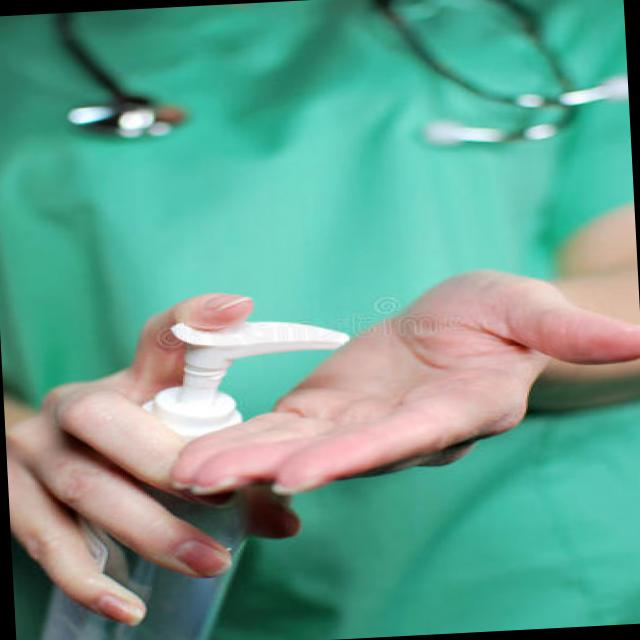sanitizer: (117, 306, 356, 608)
